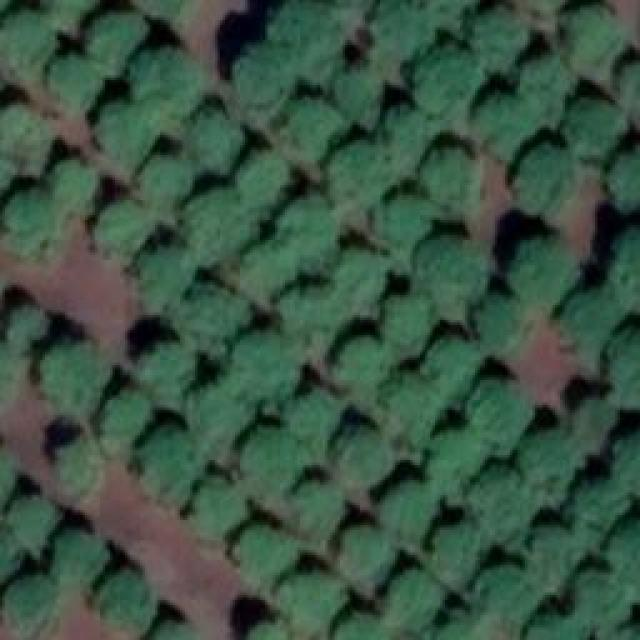Tree: (508, 142, 588, 220), (38, 337, 111, 415), (133, 430, 206, 508), (243, 425, 306, 503), (515, 233, 583, 303), (232, 525, 300, 595), (135, 50, 198, 123), (0, 190, 65, 260), (88, 12, 153, 80), (428, 235, 493, 303), (378, 383, 438, 456), (185, 285, 250, 350), (280, 0, 340, 70), (0, 103, 58, 173), (282, 290, 340, 360), (477, 470, 535, 540), (418, 43, 481, 106), (185, 195, 250, 255), (93, 568, 153, 633), (480, 568, 540, 633), (563, 290, 618, 360), (95, 203, 155, 266), (238, 343, 298, 406), (0, 13, 58, 78), (135, 150, 203, 205), (373, 192, 428, 260), (135, 340, 198, 398), (192, 385, 250, 448), (380, 288, 438, 351), (523, 55, 576, 123), (475, 95, 528, 163), (135, 250, 195, 310), (50, 525, 110, 585), (330, 143, 390, 203), (525, 433, 585, 493), (425, 338, 480, 403), (0, 580, 60, 638), (330, 340, 390, 398), (235, 45, 290, 108), (425, 150, 480, 213), (185, 485, 248, 540), (340, 525, 395, 588), (280, 105, 345, 158), (98, 390, 151, 453), (293, 198, 346, 261), (430, 425, 483, 488), (370, 5, 430, 60), (388, 573, 443, 633), (478, 380, 528, 445), (242, 240, 300, 295), (472, 8, 530, 63), (565, 7, 620, 65), (333, 430, 388, 488), (193, 105, 246, 165), (293, 485, 343, 548), (98, 105, 151, 163), (288, 573, 343, 628), (430, 523, 485, 578), (575, 480, 630, 535), (335, 253, 385, 313), (573, 100, 628, 153), (300, 388, 343, 453), (383, 103, 433, 158), (385, 483, 435, 538), (478, 300, 528, 353), (535, 525, 588, 575), (53, 55, 98, 113), (238, 153, 288, 203), (578, 575, 633, 620), (10, 495, 58, 545), (610, 332, 640, 410), (60, 440, 100, 495), (55, 158, 98, 208), (338, 75, 381, 123), (612, 240, 640, 308), (612, 148, 640, 213), (0, 340, 22, 417), (525, 610, 580, 640), (10, 305, 53, 343), (583, 398, 616, 441), (330, 617, 390, 640), (417, 0, 485, 20), (620, 428, 640, 493), (0, 437, 18, 505), (150, 620, 208, 640), (432, 620, 490, 640), (45, 0, 100, 20), (625, 520, 640, 585), (248, 622, 298, 640), (143, 0, 196, 15), (620, 62, 640, 100), (332, 0, 380, 15)
